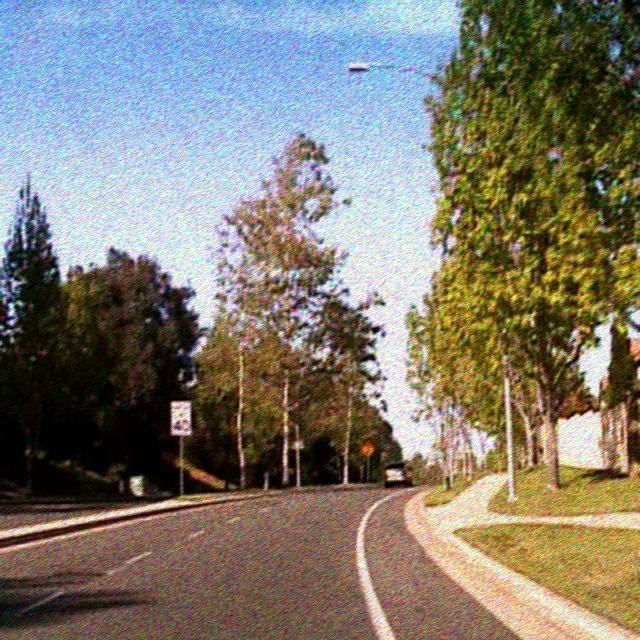speedLimit40: (170, 400, 191, 435)
